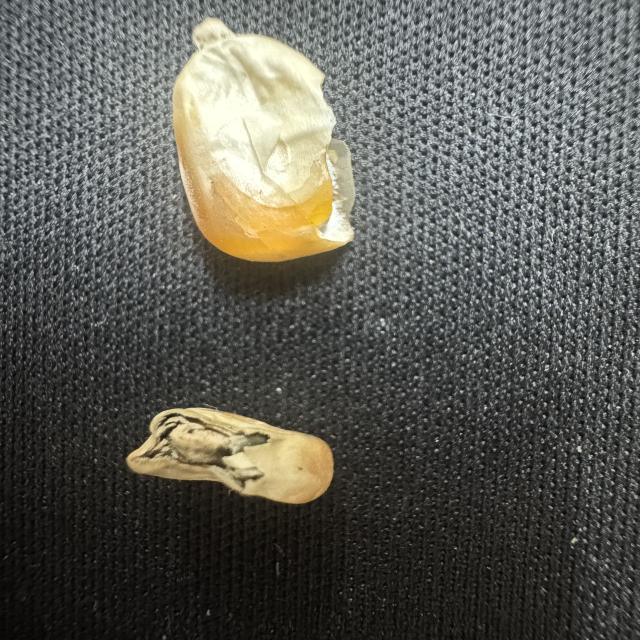Bad-Seed: (165, 12, 362, 266), (116, 400, 347, 512)
